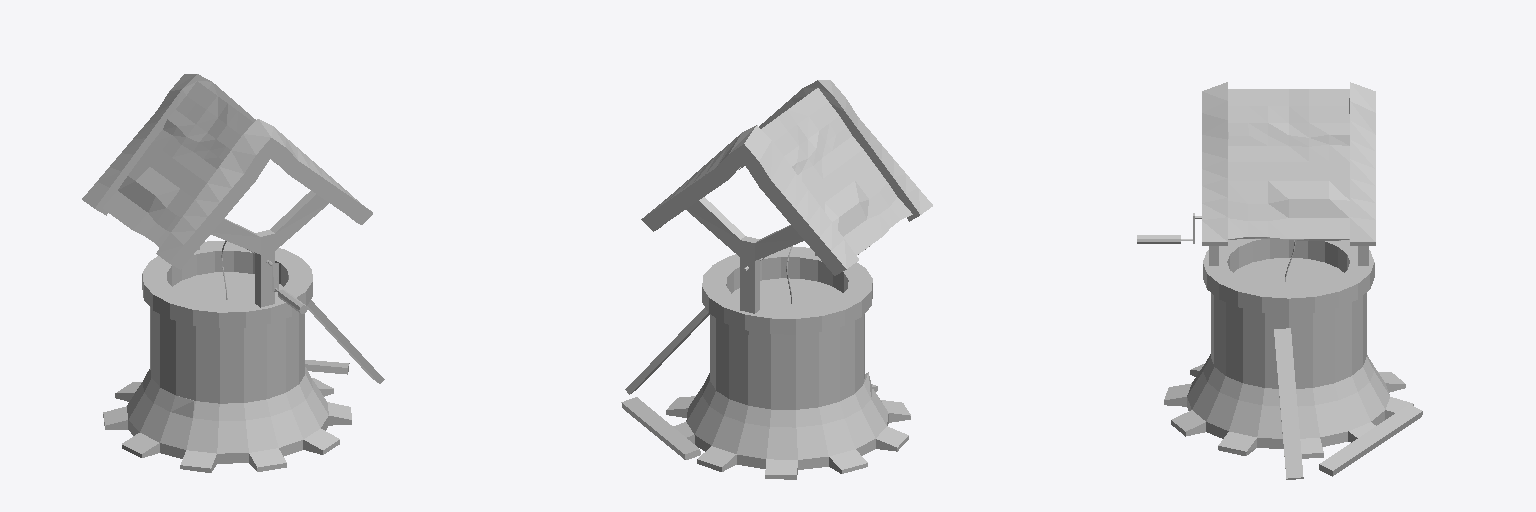
File: Well_LowPolly.obj
3 views of the same model, side by side, from view 1: azimuth 30°, elevation 25°; view 2: azimuth 150°, elevation 25°; view 3: azimuth 270°, elevation 25° (orthographic).
Parts seen in each view (by area): view 1: Low_Polly Well_Geo Stone_Low, Roof_Low Low_Polly Well_Geo, Low_Polly Well_Geo Beam_Front_Low, Low_Polly Well_Geo Plank2_Low, Low_Polly Well_Geo Crank_Low; view 2: Low_Polly Well_Geo Stone_Low, Roof_Low Low_Polly Well_Geo, Low_Polly Well_Geo Beam_Back_Low, Low_Polly Well_Geo Plank1_Low, Low_Polly Well_Geo Plank2_Low; view 3: Low_Polly Well_Geo Stone_Low, Roof_Low Low_Polly Well_Geo, Low_Polly Well_Geo Plank2_Low, Low_Polly Well_Geo Plank1_Low.
Boxes of the visible parts, x1=… form: Low_Polly Well_Geo Stone_Low: x1=103, y1=241, x2=351, y2=472; Roof_Low Low_Polly Well_Geo: x1=82, y1=74, x2=372, y2=269; Low_Polly Well_Geo Beam_Front_Low: x1=211, y1=191, x2=328, y2=307; Low_Polly Well_Geo Plank2_Low: x1=307, y1=300, x2=384, y2=383; Low_Polly Well_Geo Crank_Low: x1=249, y1=250, x2=307, y2=313; Low_Polly Well_Geo Stone_Low: x1=666, y1=247, x2=910, y2=479; Roof_Low Low_Polly Well_Geo: x1=641, y1=80, x2=932, y2=275; Low_Polly Well_Geo Beam_Back_Low: x1=686, y1=197, x2=803, y2=313; Low_Polly Well_Geo Plank1_Low: x1=621, y1=397, x2=700, y2=459; Low_Polly Well_Geo Plank2_Low: x1=625, y1=308, x2=709, y2=394; Low_Polly Well_Geo Stone_Low: x1=1164, y1=239, x2=1413, y2=458; Roof_Low Low_Polly Well_Geo: x1=1202, y1=82, x2=1375, y2=245; Low_Polly Well_Geo Plank2_Low: x1=1274, y1=328, x2=1303, y2=479; Low_Polly Well_Geo Plank1_Low: x1=1319, y1=404, x2=1422, y2=476.
Size of the model in its own units: 3.91 by 4.59 by 3.66.